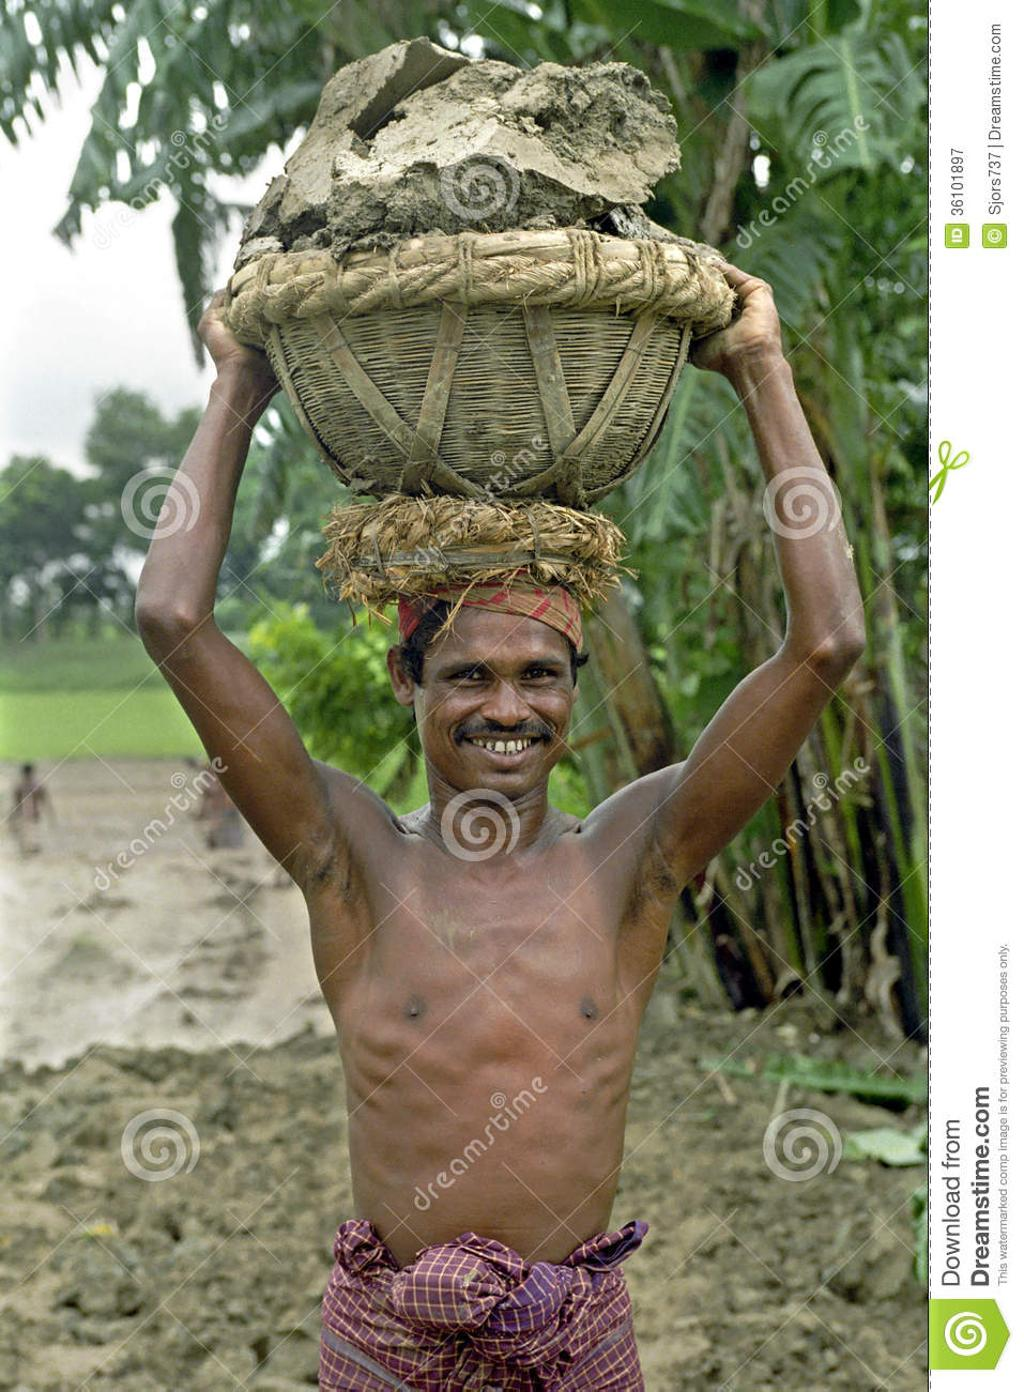face: (440, 584, 573, 782)
